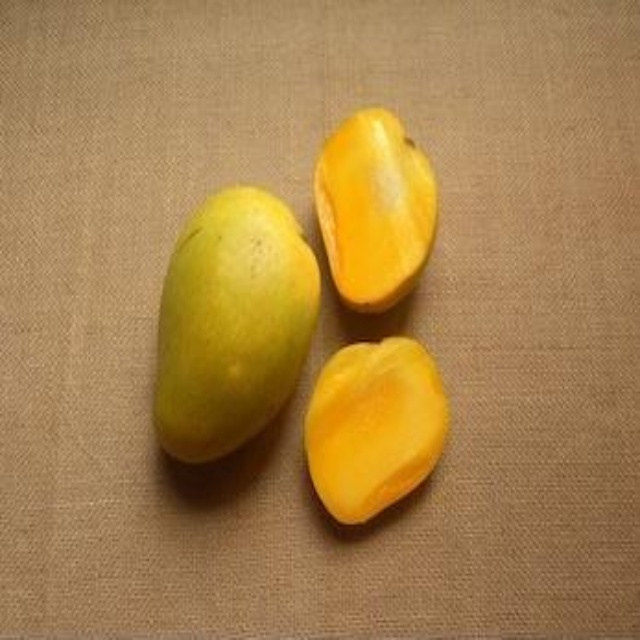mango: (146, 183, 327, 462), (301, 328, 457, 530), (308, 99, 450, 315)
